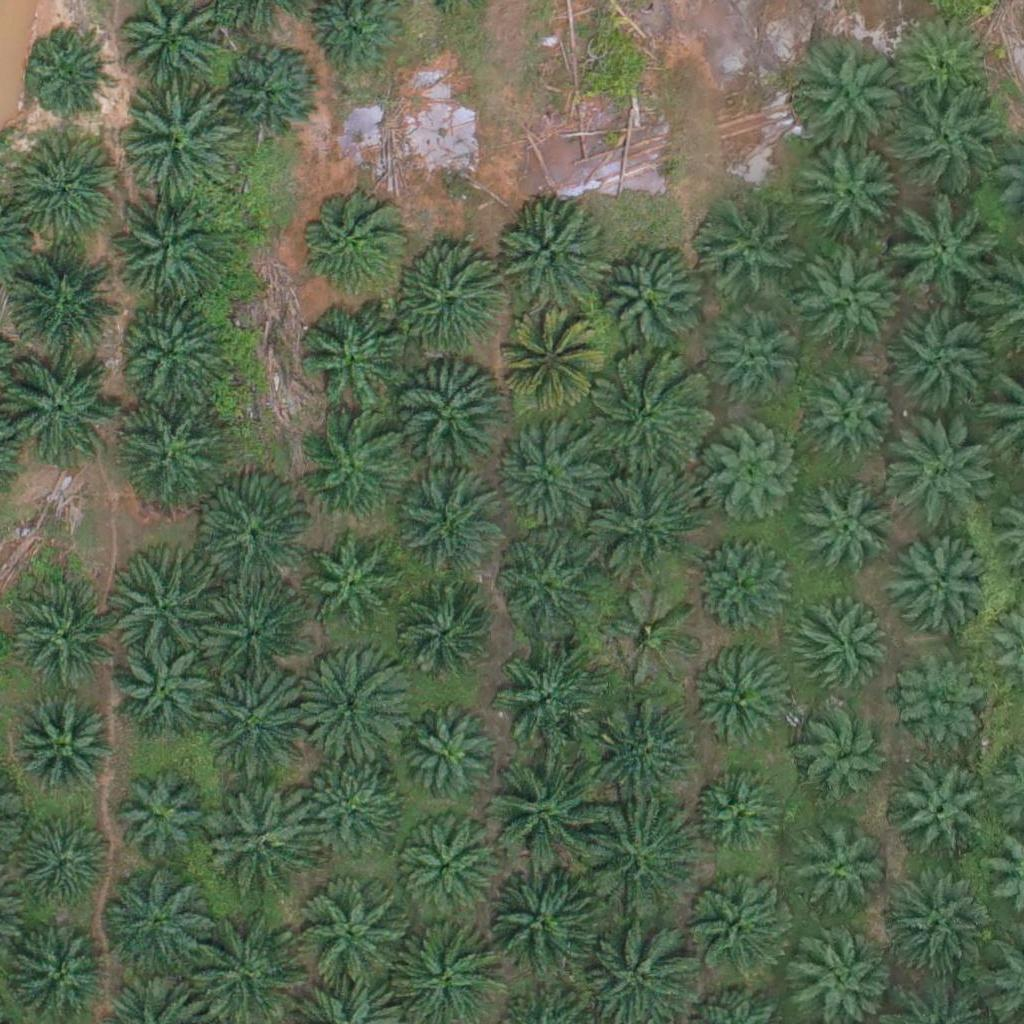Kelapa_Sawit: (486, 864, 599, 978), (293, 648, 406, 762), (202, 664, 315, 778), (119, 291, 232, 405), (110, 196, 223, 310), (8, 132, 121, 246), (885, 304, 998, 417), (879, 873, 992, 986), (583, 689, 696, 802), (587, 469, 700, 582), (591, 357, 704, 470), (485, 758, 598, 871), (394, 364, 507, 477), (296, 306, 409, 419), (298, 883, 411, 996), (207, 782, 320, 895), (888, 200, 1001, 313), (793, 43, 906, 156), (590, 245, 703, 358), (884, 421, 996, 535), (583, 803, 695, 917), (299, 411, 411, 525), (100, 865, 212, 979), (297, 183, 409, 297), (7, 240, 119, 354), (491, 637, 603, 750), (200, 486, 312, 599), (111, 394, 223, 507), (111, 542, 223, 655), (894, 83, 1006, 196), (796, 233, 908, 346), (690, 196, 802, 309), (493, 202, 605, 315), (383, 246, 495, 359), (125, 87, 237, 200), (891, 537, 991, 638), (895, 766, 995, 867), (796, 479, 896, 580), (788, 599, 888, 700), (793, 699, 893, 800), (694, 534, 794, 635), (691, 650, 791, 751), (690, 876, 790, 977), (492, 423, 592, 524), (494, 535, 594, 636), (400, 480, 500, 581), (395, 820, 495, 921), (301, 535, 401, 636), (112, 770, 212, 871), (113, 640, 213, 741), (893, 13, 993, 114), (801, 147, 901, 248), (217, 40, 317, 141), (887, 649, 987, 749), (697, 429, 797, 529), (603, 585, 703, 685), (498, 317, 598, 417), (392, 594, 492, 694), (303, 767, 403, 867), (203, 583, 303, 683), (14, 591, 114, 691), (15, 700, 115, 800), (15, 816, 115, 916), (405, 714, 493, 803), (693, 775, 781, 863), (808, 374, 895, 462), (797, 827, 884, 915), (710, 319, 797, 407), (21, 26, 108, 114)
